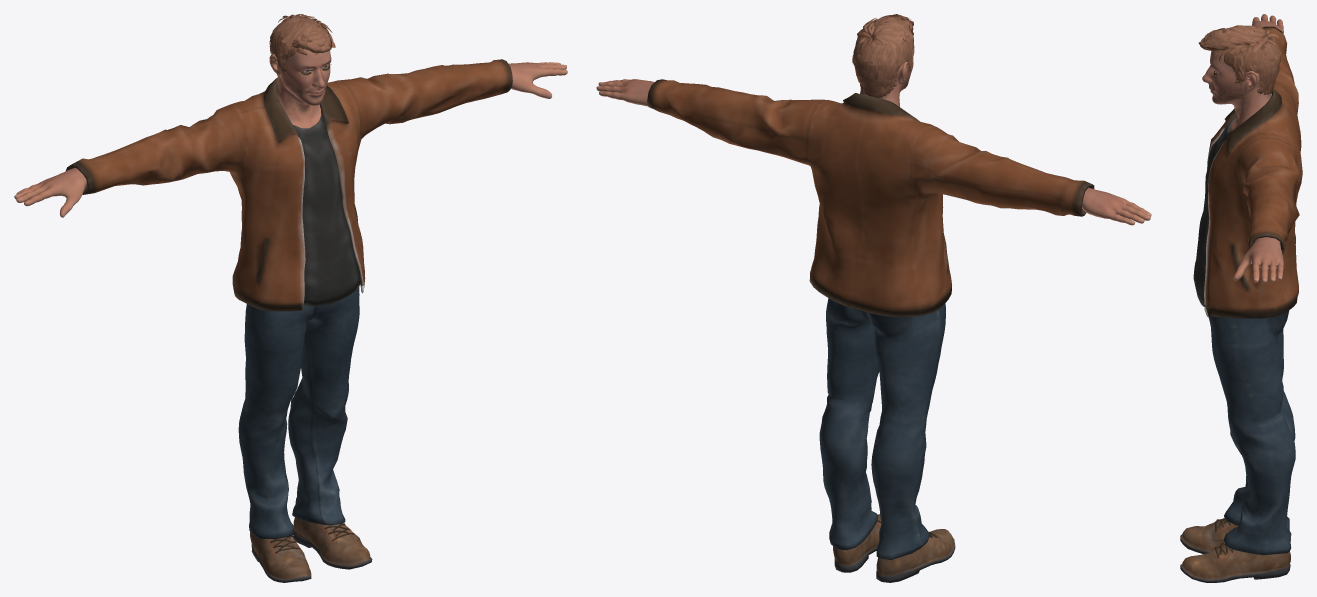
3 renders of one model, left to right at view 1: azimuth 30°, elevation 25°; view 2: azimuth 150°, elevation 25°; view 3: azimuth 270°, elevation 25°, orthographic.
Visible parts, largest first — view 1: Tops, Bottoms, Body, Shoes, Hair; view 2: Tops, Bottoms, Hair, Body, Shoes; view 3: Tops, Bottoms, Body, Shoes, Hair.
Part boxes in pixels (x1=…): Tops: x1=65, y1=59, x2=512, y2=311; Bottoms: x1=238, y1=286, x2=359, y2=539; Body: x1=14, y1=49, x2=567, y2=217; Shoes: x1=250, y1=517, x2=372, y2=582; Hair: x1=269, y1=14, x2=335, y2=76; Tops: x1=647, y1=79, x2=1094, y2=316; Bottoms: x1=819, y1=298, x2=945, y2=559; Hair: x1=852, y1=14, x2=914, y2=97; Body: x1=596, y1=48, x2=1151, y2=225; Shoes: x1=833, y1=514, x2=955, y2=582; Tops: x1=1193, y1=26, x2=1302, y2=318; Bottoms: x1=1208, y1=310, x2=1295, y2=555; Body: x1=1202, y1=14, x2=1283, y2=283; Shoes: x1=1180, y1=518, x2=1290, y2=582; Hair: x1=1198, y1=25, x2=1280, y2=94.
Bounding box in the file's own units: 194 × 182 × 37.72.
1 material, 1 textured.
